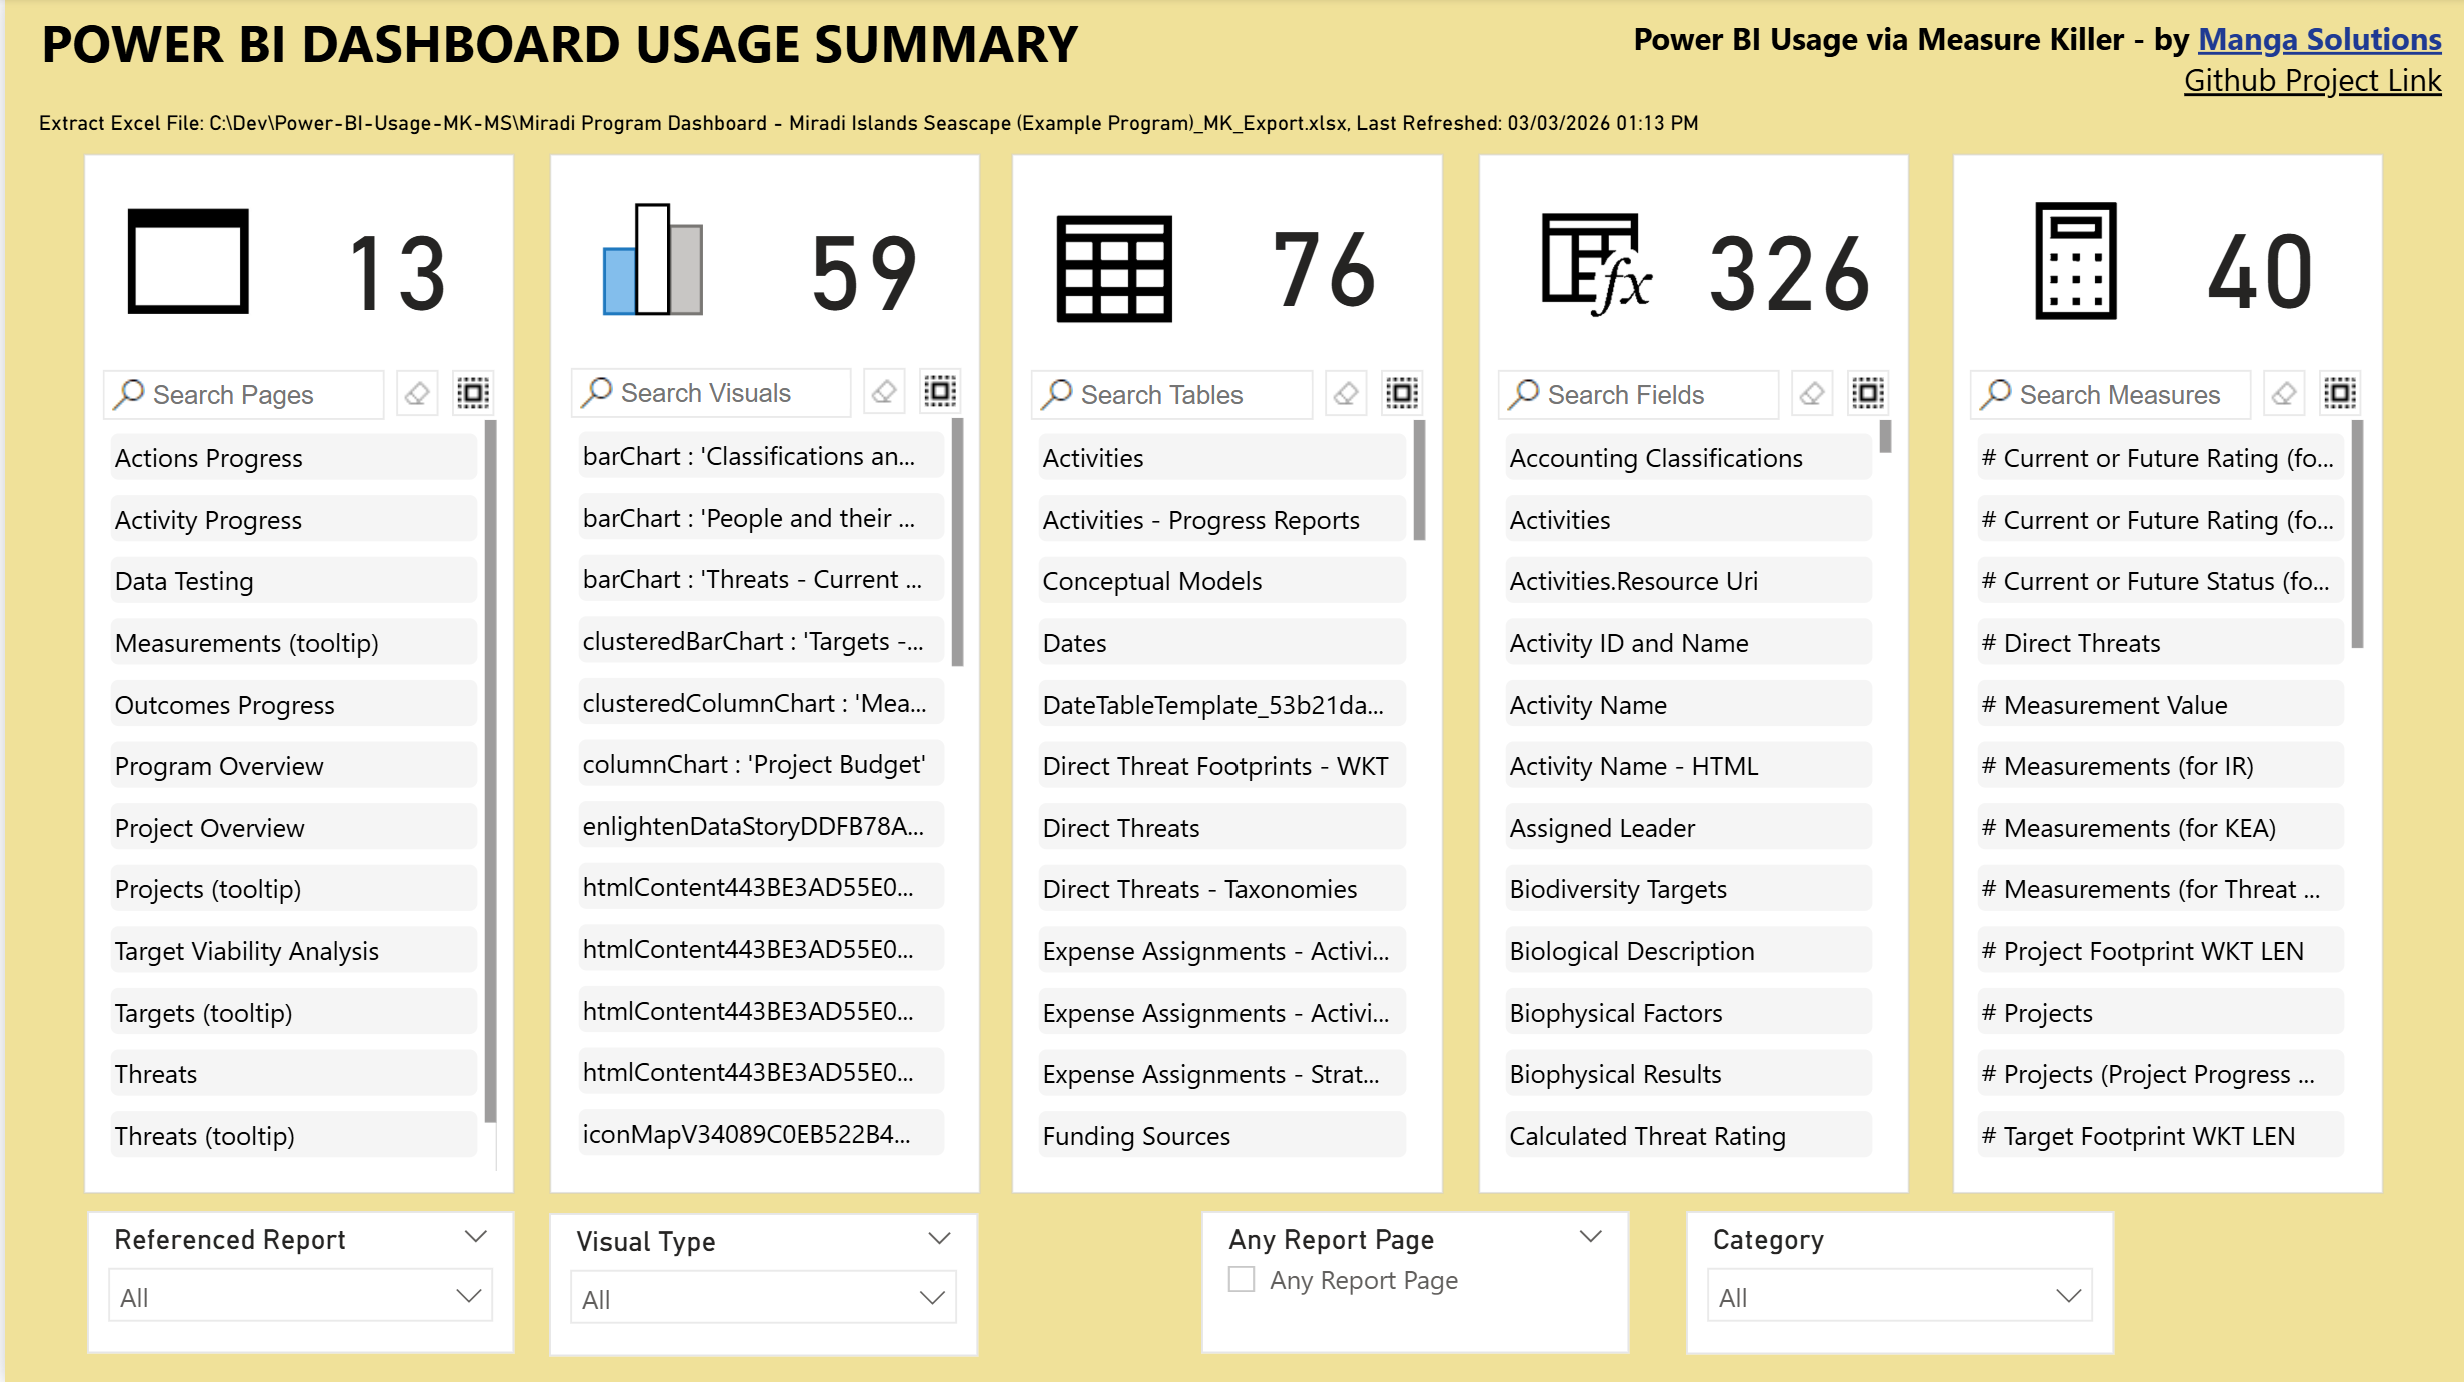

Layout of this report page (visuals, bound fields, positions):
{"tool":"powerbi","page":{"name":"Usage","canvas":[1280,720],"ordinal":0},"visuals":[{"type":"textbox","box":[13.2,0,1041.6,50.6],"z":0},{"type":"basicShape","box":[38.6,76.1,228.6,551.4],"z":1000},{"type":"basicShape","box":[280,76.1,228.6,551.4],"z":2000},{"type":"basicShape","box":[520,76.1,228.6,551.4],"z":3000},{"type":"basicShape","box":[762.9,76.1,228.6,551.4],"z":4000},{"type":"basicShape","box":[1008.6,76.1,228.6,551.4],"z":5000},{"type":"slicer","fields":{"Values":["MK Usage.Visual Type"]},"box":[282.9,631.8,222.9,74.3],"z":6000},{"type":"card","fields":{"Values":["MK Usage.# Page Name"]},"box":[144.4,85.9,116.1,100.5],"z":7000},{"type":"card","fields":{"Values":["MK Usage.# Visuals"]},"box":[387.3,85.9,115.1,100.5],"z":8000},{"type":"card","fields":{"Values":["MK Usage.# Tables"]},"box":[626.3,83.9,116.1,100.5],"z":9000},{"type":"card","fields":{"Values":["MK Usage.# Names"]},"box":[868.3,85.9,116.1,100.5],"z":10000},{"type":"card","fields":{"Values":["MK Usage.# Names"]},"box":[1113.2,84.9,117.1,100.5],"z":11000},{"type":"image","box":[298.9,98.7,74.4,74.4],"z":12000},{"type":"image","box":[1047.8,97.6,54.6,79],"z":13000},{"type":"image","box":[57.2,97.3,75.8,78.7],"z":14000},{"type":"image","box":[539.2,105.8,74.4,70.1],"z":15000},{"type":"image","box":[785.4,105.4,82.9,67.3],"z":16000},{"type":"Slicer1448559807355","fields":{"Category":["MK Usage.Page Name"]},"box":[45.8,178.2,214.3,435.9],"z":17000},{"type":"Slicer1448559807355","fields":{"Category":["MK Usage.Visual Type : Title"]},"box":[288.7,178,214.1,436.7],"z":18000},{"type":"Slicer1448559807355","fields":{"Category":["MK Usage.Table"]},"box":[527.7,178.2,214.5,434.8],"z":19000},{"type":"Slicer1448559807355","fields":{"Category":["MK Usage.Name"]},"box":[769.4,178.2,214.5,434.8],"z":20000},{"type":"Slicer1448559807355","fields":{"Category":["MK Usage.Name"]},"box":[1015.4,178.2,214.5,434.8],"z":21000},{"type":"slicer","fields":{"Values":["MK Usage.Referenced Report"]},"box":[42.6,631,222,74],"z":22000},{"type":"htmlContent443BE3AD55E043BF878BED274D3A6865","fields":{"content":["? Parameters.? Parameters Label"]},"box":[12.7,51,1216.3,34.4],"z":23000},{"type":"textbox","box":[693.5,0,586.5,59.9],"z":24000},{"type":"slicer","fields":{"Values":["MK Usage.Category"]},"box":[872.6,631,222.6,74.6],"z":25000},{"type":"slicer","fields":{"Values":["MK Usage.Any Report Page"]},"box":[621.1,631,222,74],"z":26000}]}

Visuals, with their boxes in screenshot pixels (x1, y1, x2, y2), scaled from the page's 1280x720 canvas onto the 2464x1382 screenshot:
textbox: BBox(25, 0, 2030, 97)
basicShape: BBox(74, 146, 514, 1204)
basicShape: BBox(539, 146, 979, 1204)
basicShape: BBox(1001, 146, 1441, 1204)
basicShape: BBox(1469, 146, 1909, 1204)
basicShape: BBox(1942, 146, 2382, 1204)
slicer - MK Usage.Visual Type: BBox(545, 1213, 974, 1355)
card - MK Usage.# Page Name: BBox(278, 165, 501, 358)
card - MK Usage.# Visuals: BBox(746, 165, 967, 358)
card - MK Usage.# Tables: BBox(1206, 161, 1429, 354)
card - MK Usage.# Names: BBox(1671, 165, 1895, 358)
card - MK Usage.# Names: BBox(2143, 163, 2368, 356)
image: BBox(575, 189, 719, 332)
image: BBox(2017, 187, 2122, 339)
image: BBox(110, 187, 256, 338)
image: BBox(1038, 203, 1181, 338)
image: BBox(1512, 202, 1671, 331)
Slicer1448559807355 - MK Usage.Page Name: BBox(88, 342, 501, 1179)
Slicer1448559807355 - MK Usage.Visual Type : Title: BBox(556, 342, 968, 1180)
Slicer1448559807355 - MK Usage.Table: BBox(1016, 342, 1429, 1177)
Slicer1448559807355 - MK Usage.Name: BBox(1481, 342, 1894, 1177)
Slicer1448559807355 - MK Usage.Name: BBox(1955, 342, 2368, 1177)
slicer - MK Usage.Referenced Report: BBox(82, 1211, 509, 1353)
htmlContent443BE3AD55E043BF878BED274D3A6865 - ? Parameters.? Parameters Label: BBox(24, 98, 2366, 164)
textbox: BBox(1335, 0, 2463, 115)
slicer - MK Usage.Category: BBox(1680, 1211, 2108, 1354)
slicer - MK Usage.Any Report Page: BBox(1196, 1211, 1623, 1353)
